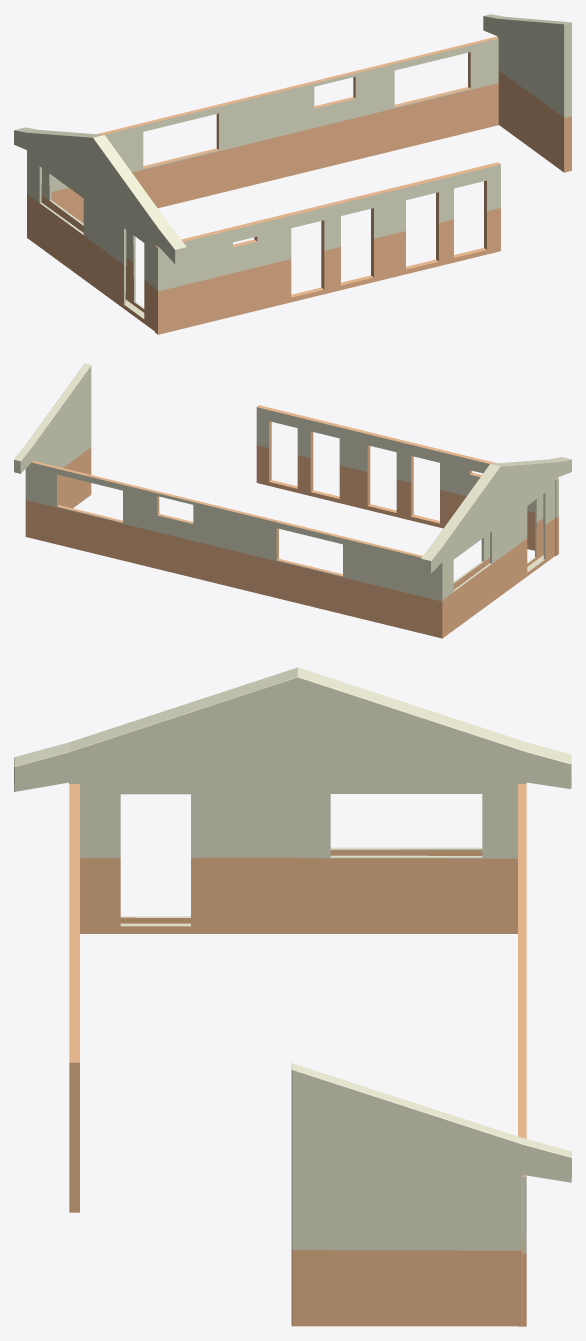
Rendered from plcc2.glb.
3 views of the same model, one above another, from view 1: azimuth 30°, elevation 25°; view 2: azimuth 150°, elevation 25°; view 3: azimuth 270°, elevation 25° (orthographic). The views are drawn at different scales.
Parts seen in each view (by area): view 1: pared vertical 2.001; view 2: pared vertical 2.001; view 3: pared vertical 2.001.
Part boxes in pixels (x1,y1,x2,y2): pared vertical 2.001: [14, 14, 571, 334]; pared vertical 2.001: [14, 363, 571, 638]; pared vertical 2.001: [14, 667, 571, 1326].
Bounding box in the file's own units: 279 × 82.9 × 163.
